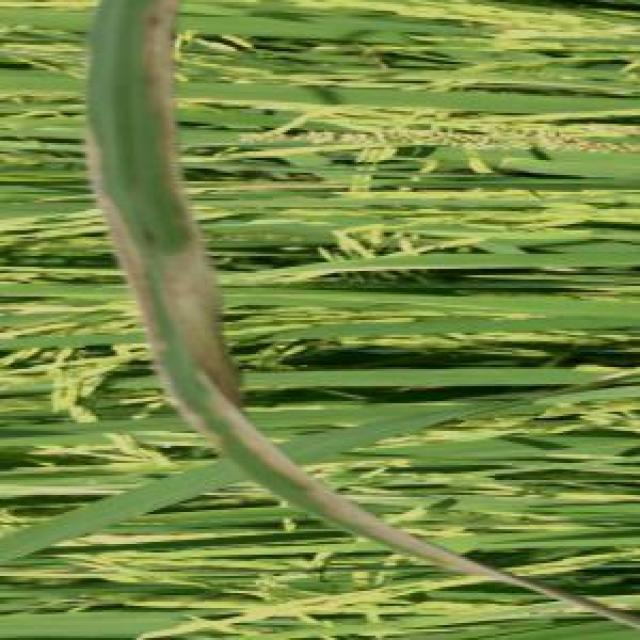Bacterial_Leaf_Blight: (81, 4, 201, 363)
